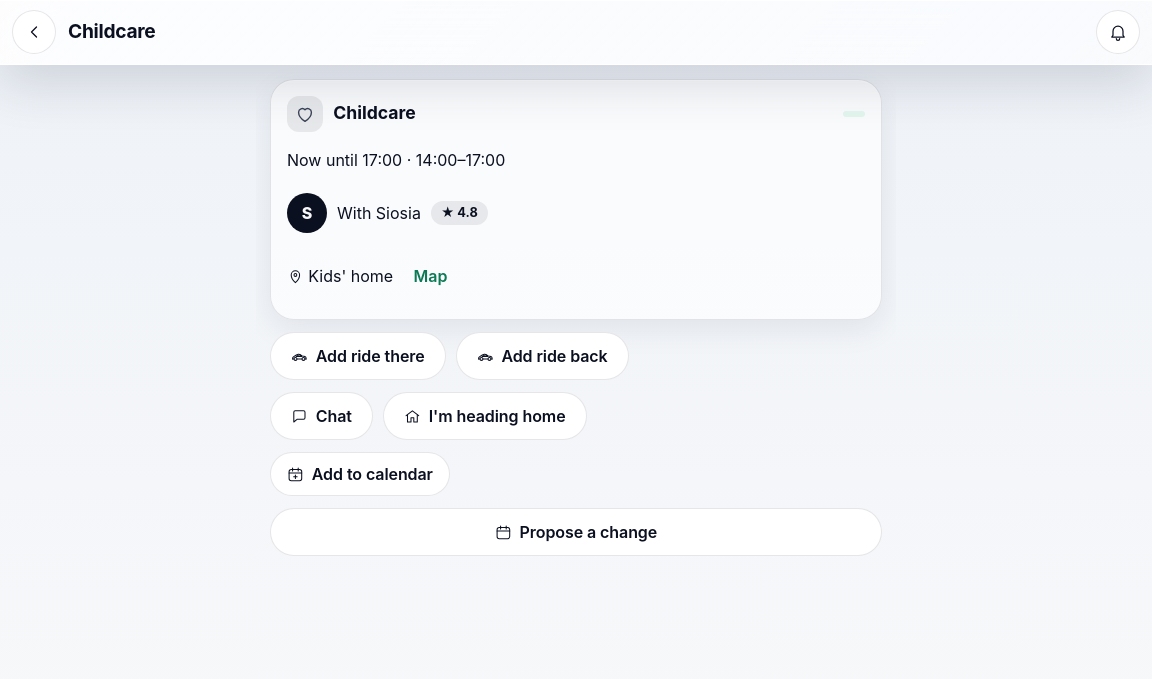
Scenario: 2.14.1 on a database still at 2.14 (no 'pastMoves', V89) › a live one opens on the length; a done one 2 days old offers nothing; a planned one starts after the lead, no past hint
Later steps or results of the test are not shown.
Step 1. Click the button with test id "appt-change" → coordinates (576, 532), box [270,508,882,556]
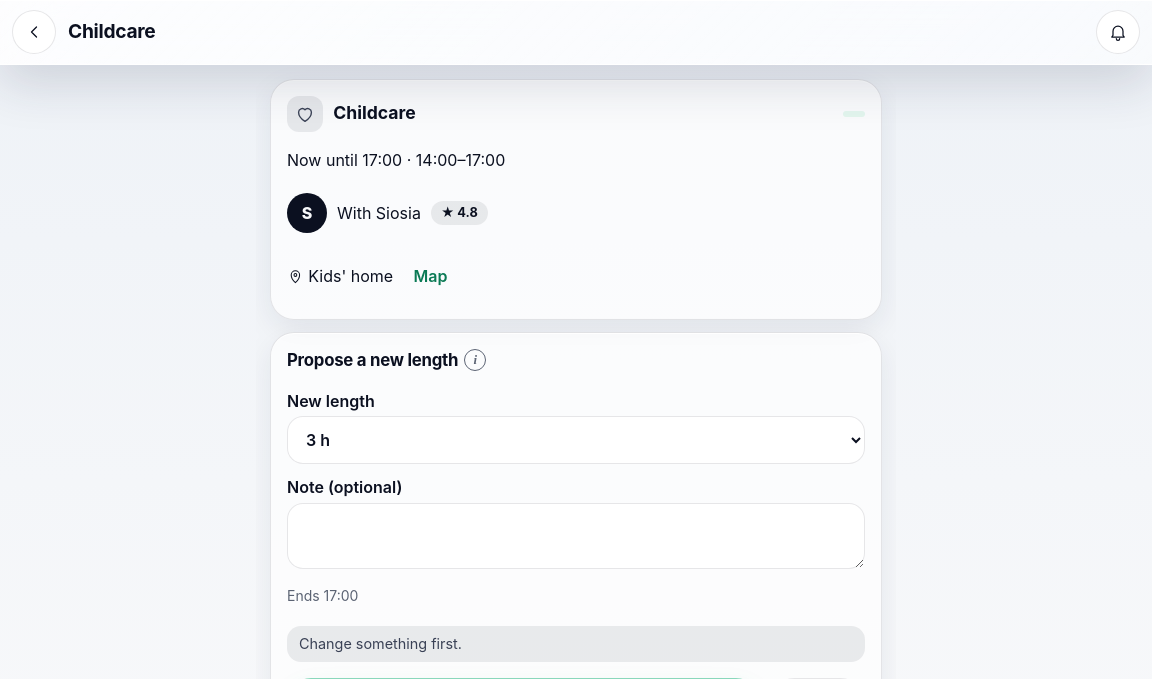
Expected: the dropdown with test id "change-minutes" is shown, [287,416,865,464]
